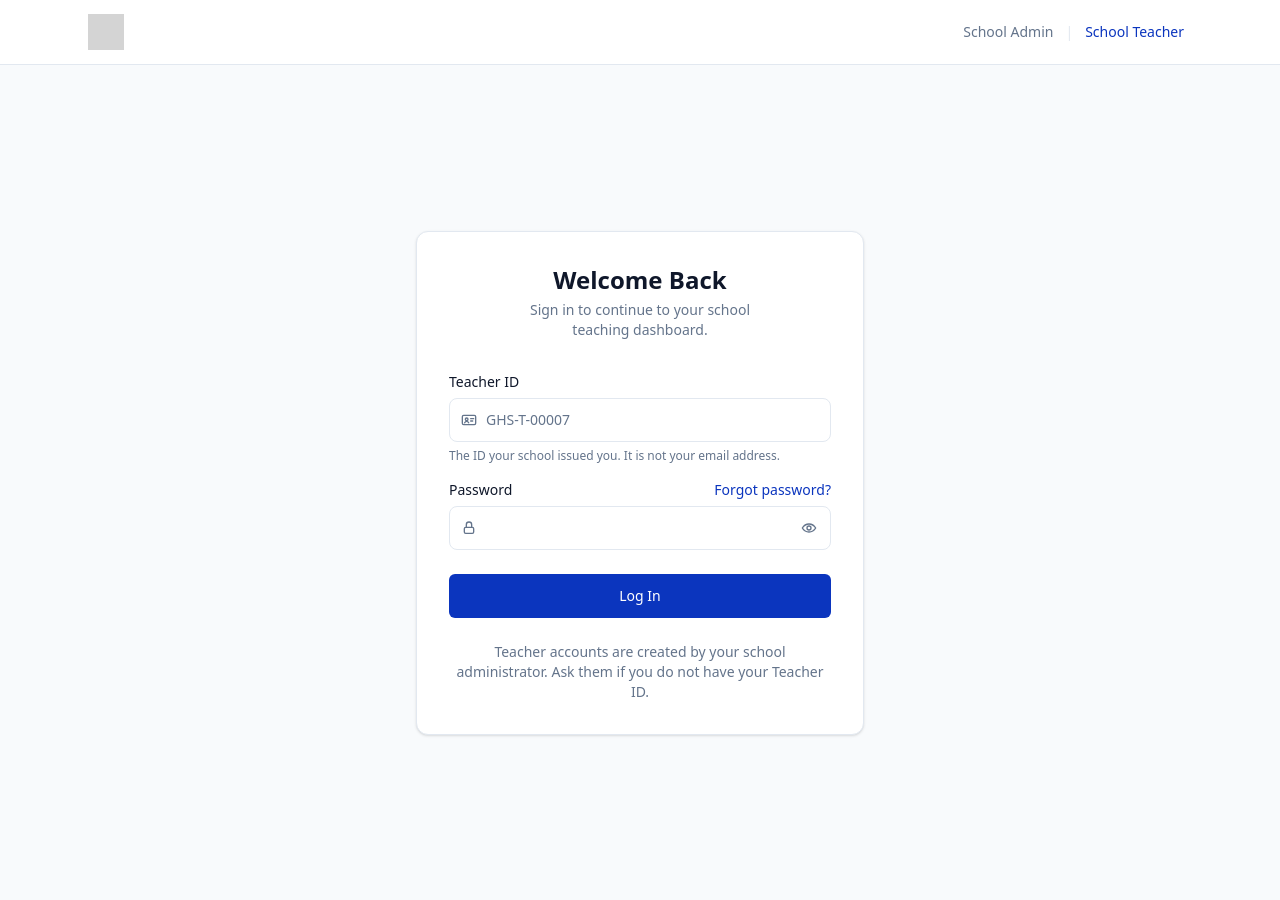
Test: TeacherLoginPage › validates both required fields
Check: the heading "Welcome Back" is shown, box [553,262,727,296]
Click the button "Log In" at {"x": 640, "y": 596}, box [449,574,831,618]
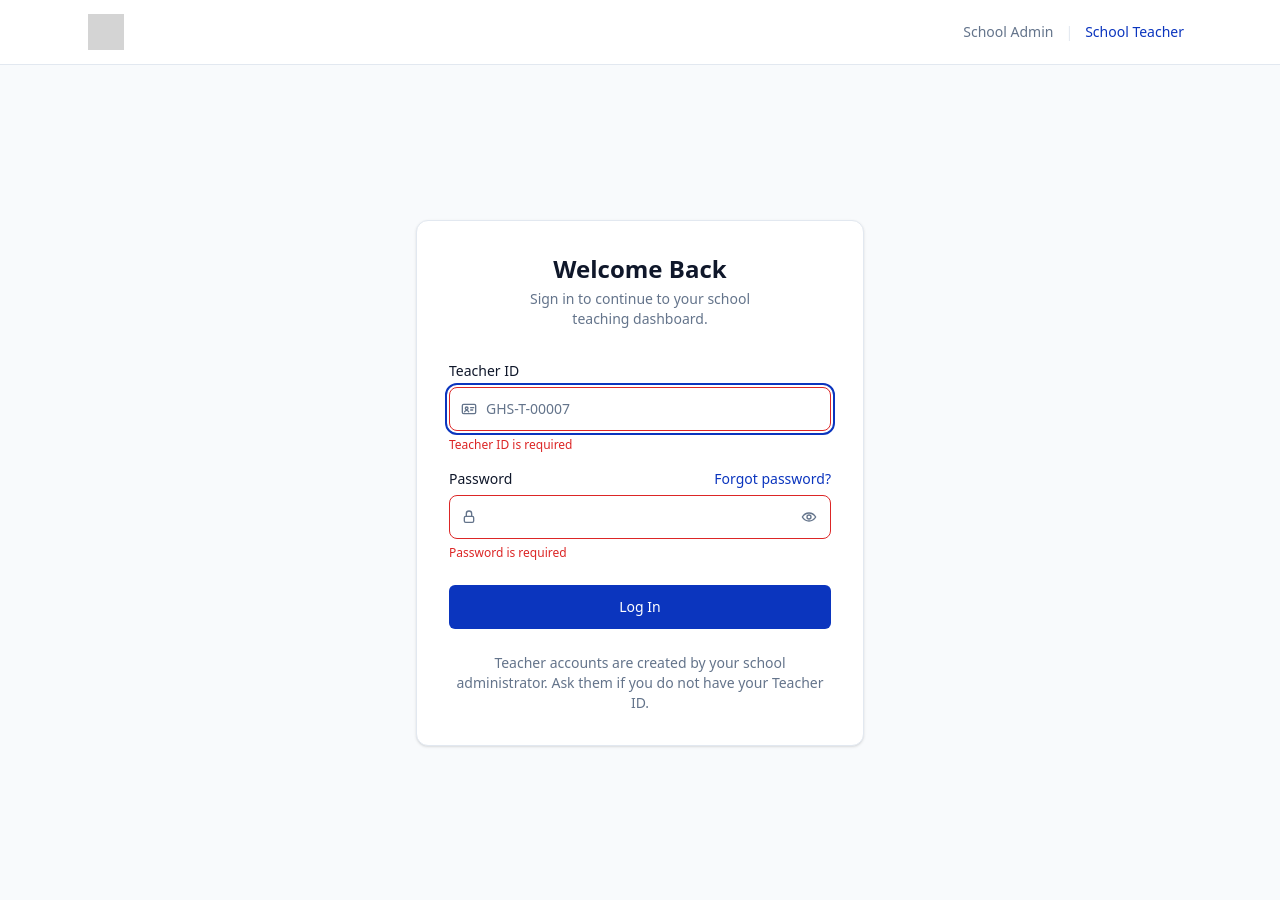
Check: the text "Teacher ID is required" is shown, box [449,436,572,452]
Check: the text "Password is required" is shown, box [449,544,567,560]
